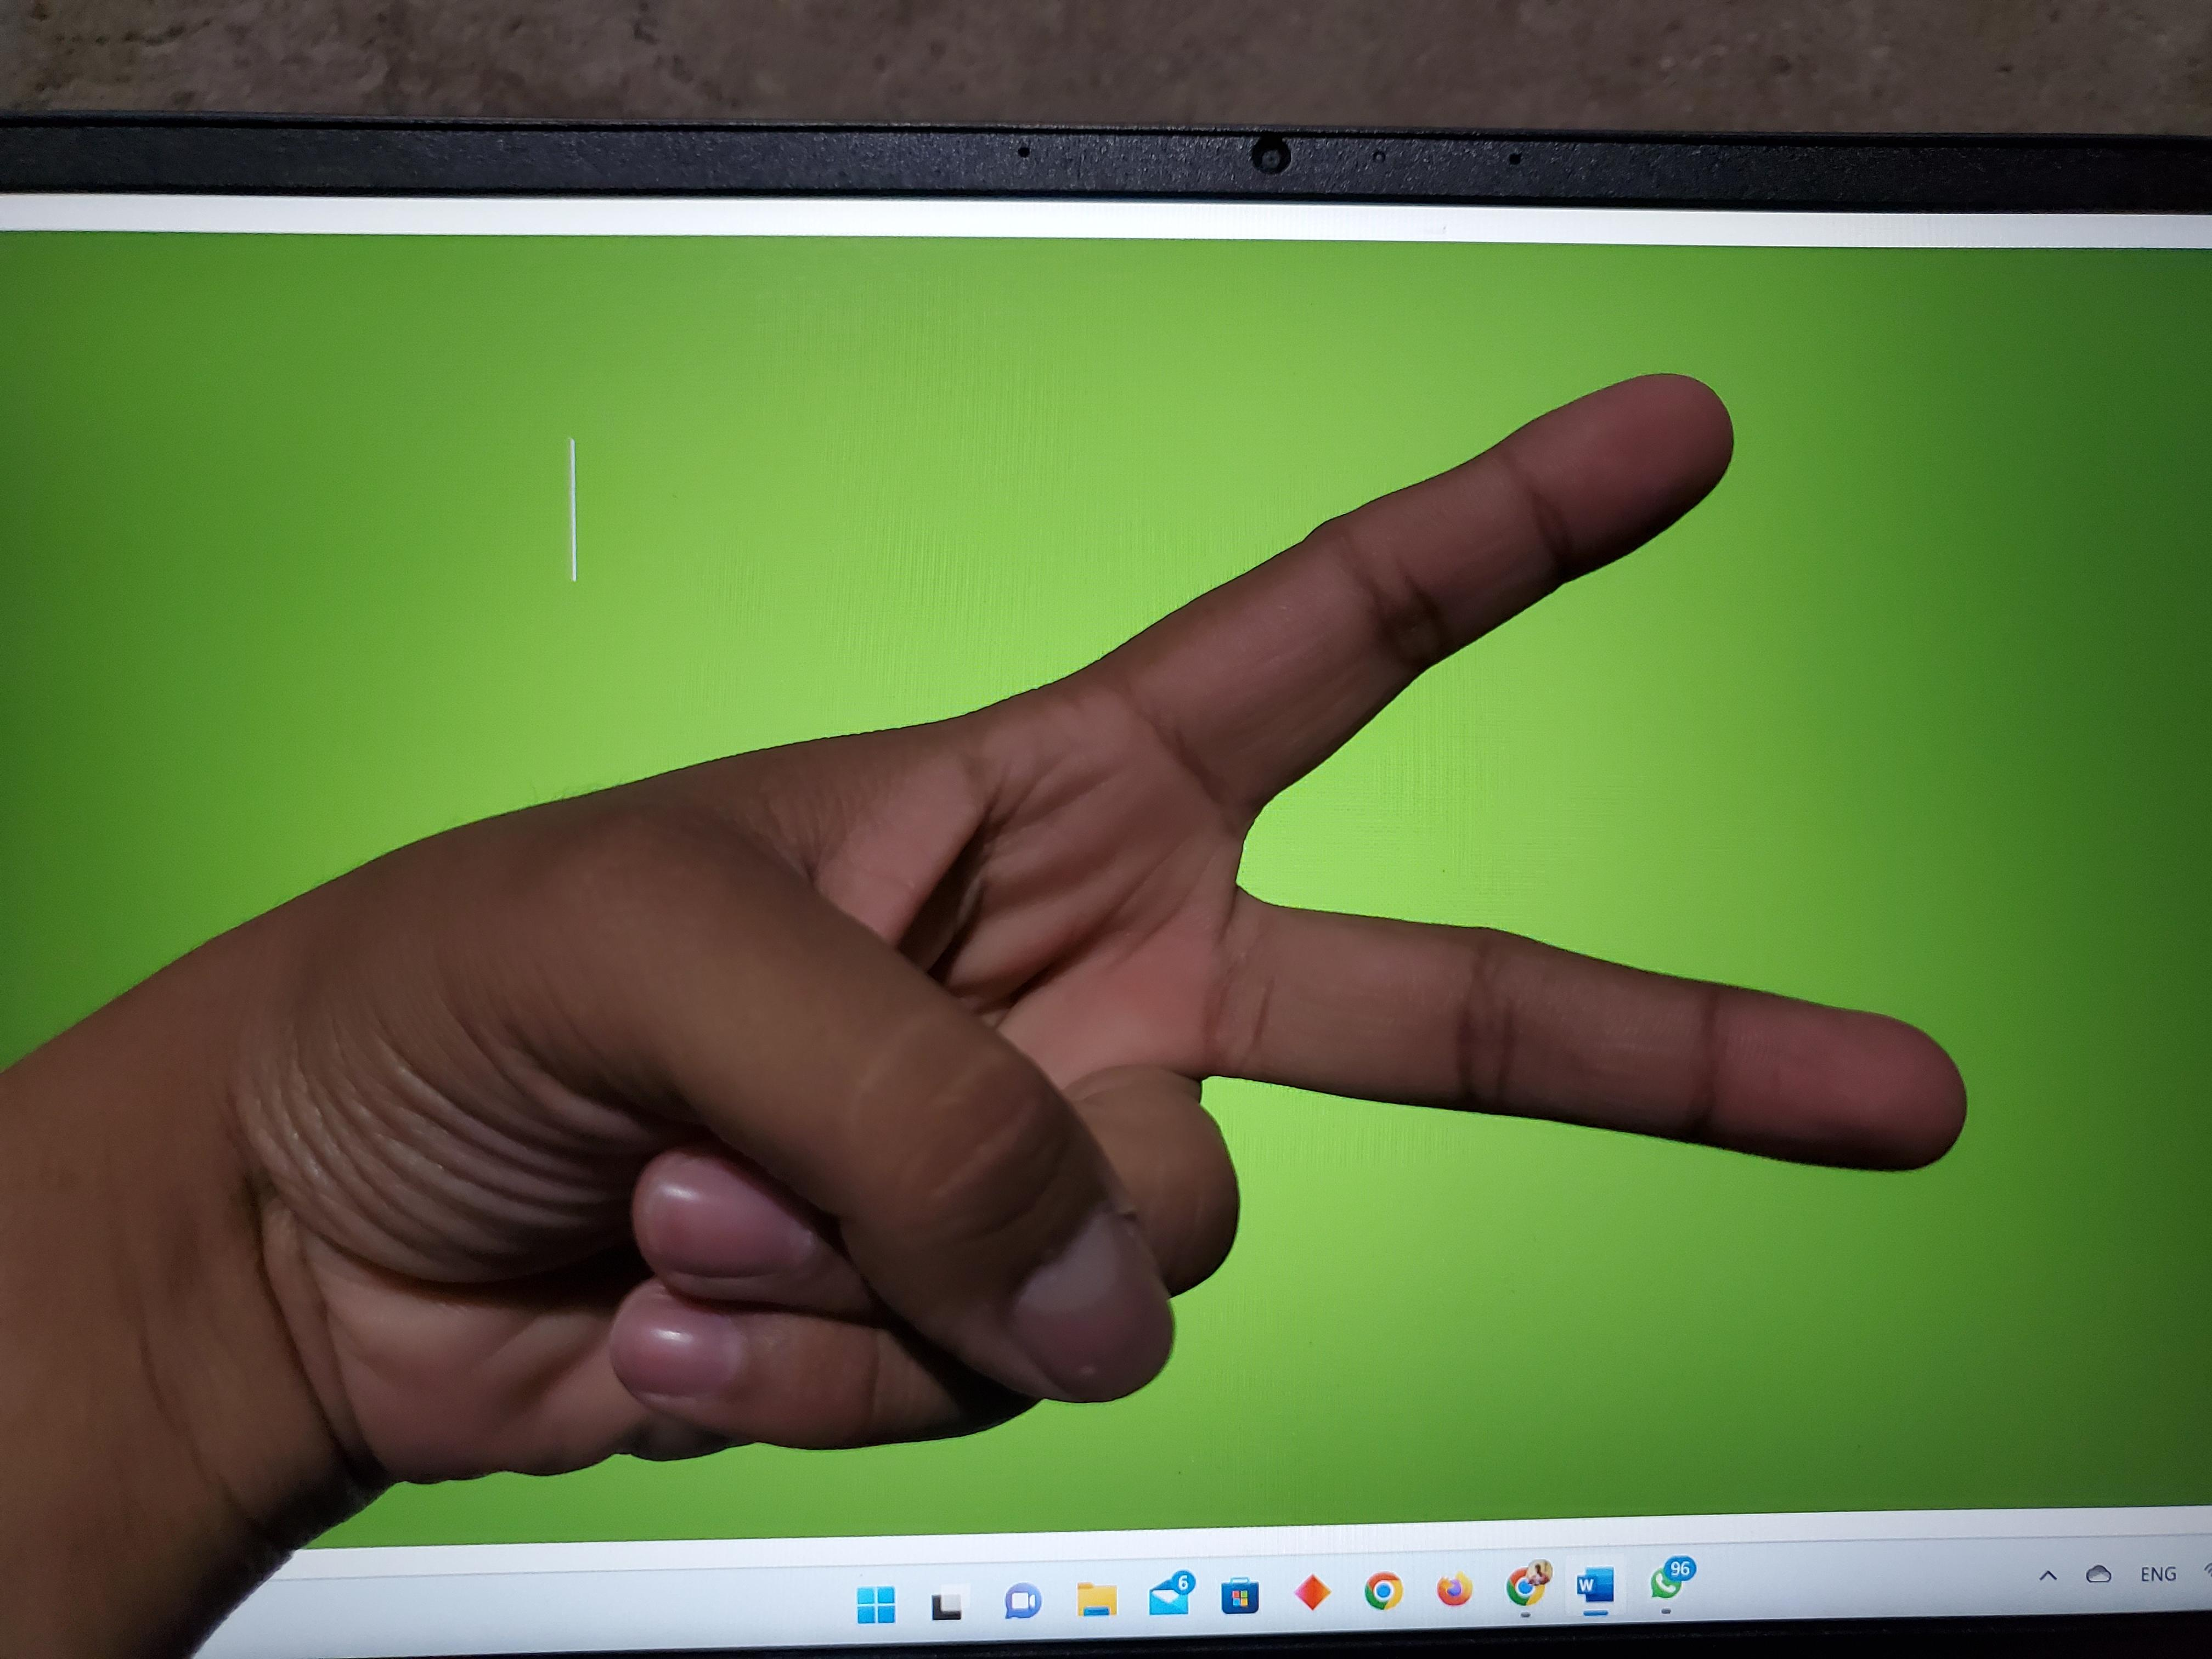Scissor: (111, 336, 2073, 1535)
